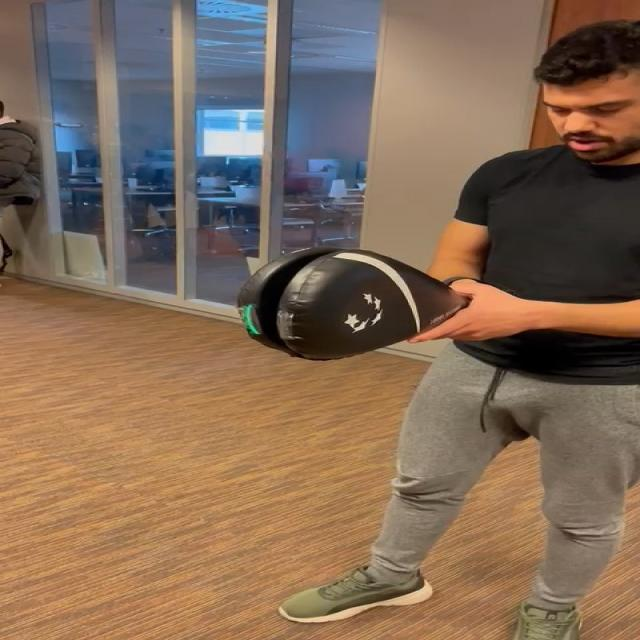paddle: (244, 248, 463, 357)
trigger: (238, 296, 269, 338)
